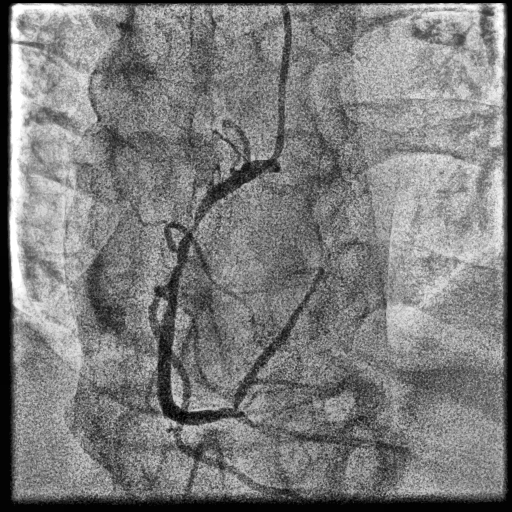pborca: (232, 271, 324, 408)
pda: (235, 410, 407, 453)
rca: (156, 159, 280, 426)
